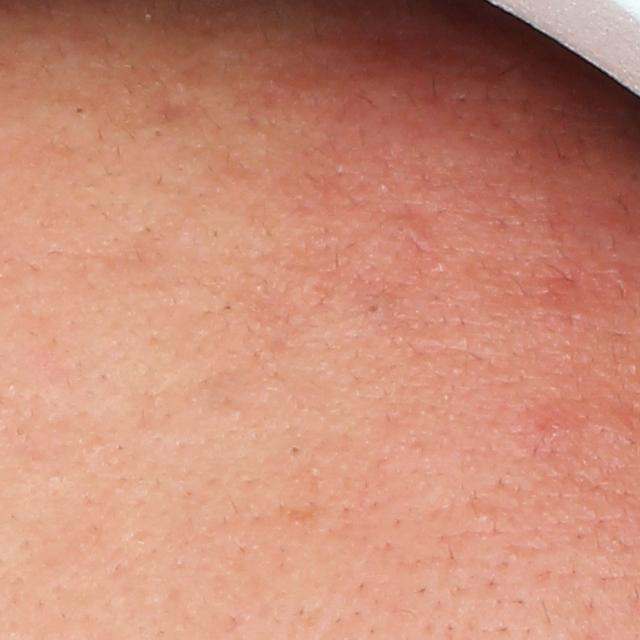comedo: (474, 504, 497, 529), (363, 297, 387, 318), (70, 100, 91, 121), (284, 442, 305, 461), (151, 126, 165, 140)
